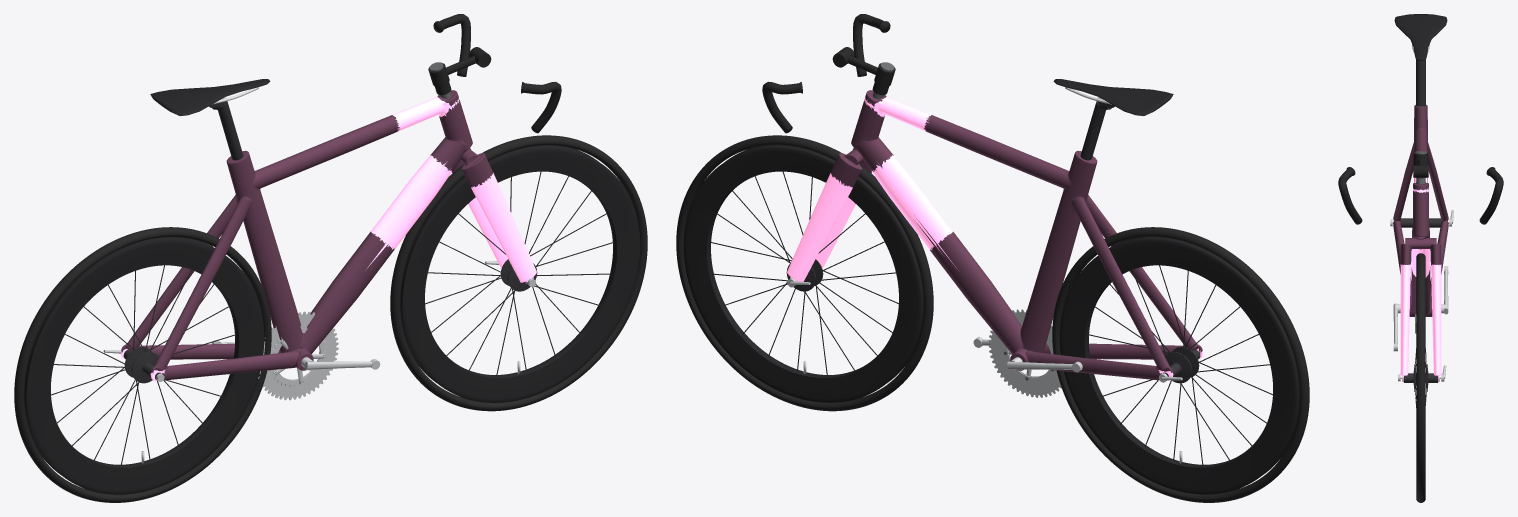
File: bike_web_raw.glb
3 renders of one model, left to right at view 1: azimuth 30°, elevation 25°; view 2: azimuth 150°, elevation 25°; view 3: azimuth 270°, elevation 25°, orthographic. The views are drawn at different scales.
Visible parts, largest first — view 1: frame, rim_rear, rim_front, tyre_rear, tyre_front, fork, spokes_front, chainrings, spokes_rear, saddle, dropbar, stem (+3 smaller); view 2: frame, rim_rear, rim_front, tyre_rear, tyre_front, fork, spokes_front, spokes_rear, saddle, chainrings, dropbar, stem (+3 smaller); view 3: frame, fork, tyre_front, saddle, dropbar, crank_arms, stem, seatpost, hub_front, hub_rear.
Part boxes in pixels (left/top/right/bottom): frame: left=121, top=90, right=472, bottom=380; rim_rear: left=24, top=237, right=264, bottom=494; rim_front: left=400, top=145, right=640, bottom=402; tyre_rear: left=14, top=227, right=271, bottom=502; tyre_front: left=390, top=135, right=647, bottom=411; fork: left=452, top=147, right=536, bottom=283; spokes_front: left=425, top=171, right=614, bottom=375; chainrings: left=258, top=311, right=338, bottom=400; spokes_rear: left=51, top=265, right=236, bottom=465; saddle: left=150, top=79, right=270, bottom=115; dropbar: left=433, top=14, right=561, bottom=133; stem: left=428, top=47, right=491, bottom=98; frame: left=851, top=90, right=1202, bottom=380; rim_rear: left=1059, top=237, right=1299, bottom=494; rim_front: left=683, top=145, right=923, bottom=402; tyre_rear: left=1052, top=227, right=1309, bottom=502; tyre_front: left=676, top=135, right=933, bottom=411; fork: left=787, top=147, right=871, bottom=281; spokes_front: left=710, top=171, right=898, bottom=375; spokes_rear: left=1087, top=265, right=1272, bottom=465; saddle: left=1053, top=79, right=1173, bottom=115; chainrings: left=988, top=309, right=1061, bottom=397; dropbar: left=762, top=14, right=890, bottom=133; stem: left=832, top=47, right=895, bottom=98; frame: left=1393, top=105, right=1448, bottom=316; fork: left=1400, top=238, right=1441, bottom=381; tyre_front: left=1416, top=253, right=1425, bottom=502; saddle: left=1394, top=14, right=1447, bottom=60; dropbar: left=1338, top=167, right=1503, bottom=224; crank_arms: left=1393, top=266, right=1448, bottom=351; stem: left=1413, top=151, right=1428, bottom=184; seatpost: left=1416, top=59, right=1425, bottom=106; hub_front: left=1402, top=364, right=1439, bottom=391; hub_rear: left=1400, top=218, right=1441, bottom=227.
Size of the model in its own units: 1.66 by 0.9827 by 0.4466.
